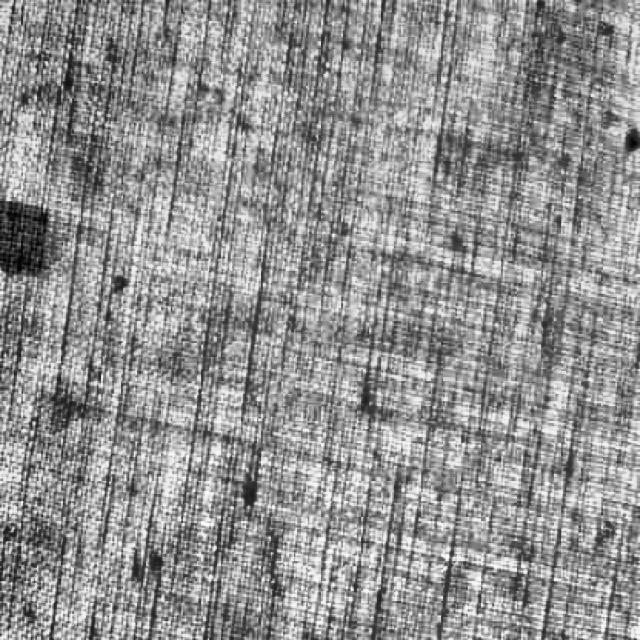oil_spot: (2, 185, 58, 286)
